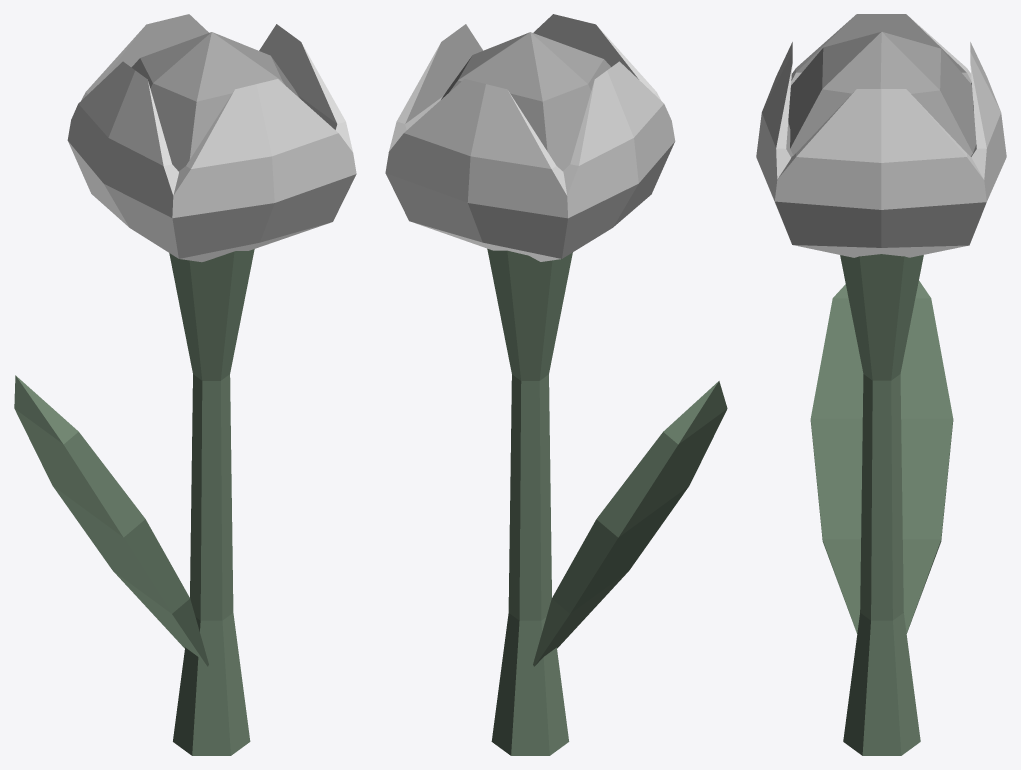
File: Flower_3_White.fbx
3 views of the same model, side by side, from view 1: azimuth 30°, elevation 25°; view 2: azimuth 150°, elevation 25°; view 3: azimuth 270°, elevation 25° (orthographic).
Parts seen in each view (by area): view 1: Flower_3_White_Part_2, Flower_3_White_Part_1, Flower_3_White_Part_3; view 2: Flower_3_White_Part_2, Flower_3_White_Part_1, Flower_3_White_Part_3; view 3: Flower_3_White_Part_1, Flower_3_White_Part_2, Flower_3_White_Part_3.
Boxes of the visible parts, x1=… form: Flower_3_White_Part_2: x1=67, y1=14, x2=356, y2=262; Flower_3_White_Part_1: x1=14, y1=249, x2=254, y2=755; Flower_3_White_Part_3: x1=131, y1=32, x2=299, y2=171; Flower_3_White_Part_2: x1=385, y1=14, x2=675, y2=261; Flower_3_White_Part_1: x1=487, y1=248, x2=727, y2=755; Flower_3_White_Part_3: x1=441, y1=32, x2=610, y2=171; Flower_3_White_Part_1: x1=810, y1=254, x2=953, y2=755; Flower_3_White_Part_2: x1=756, y1=14, x2=1006, y2=257; Flower_3_White_Part_3: x1=788, y1=31, x2=976, y2=156.
Bounding box in the file's own units: 24.43 × 55 × 17.59.
